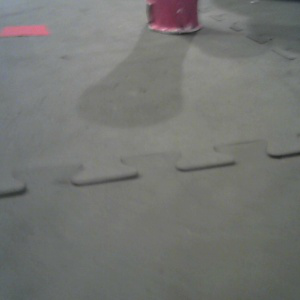right: (145, 1, 203, 35)
